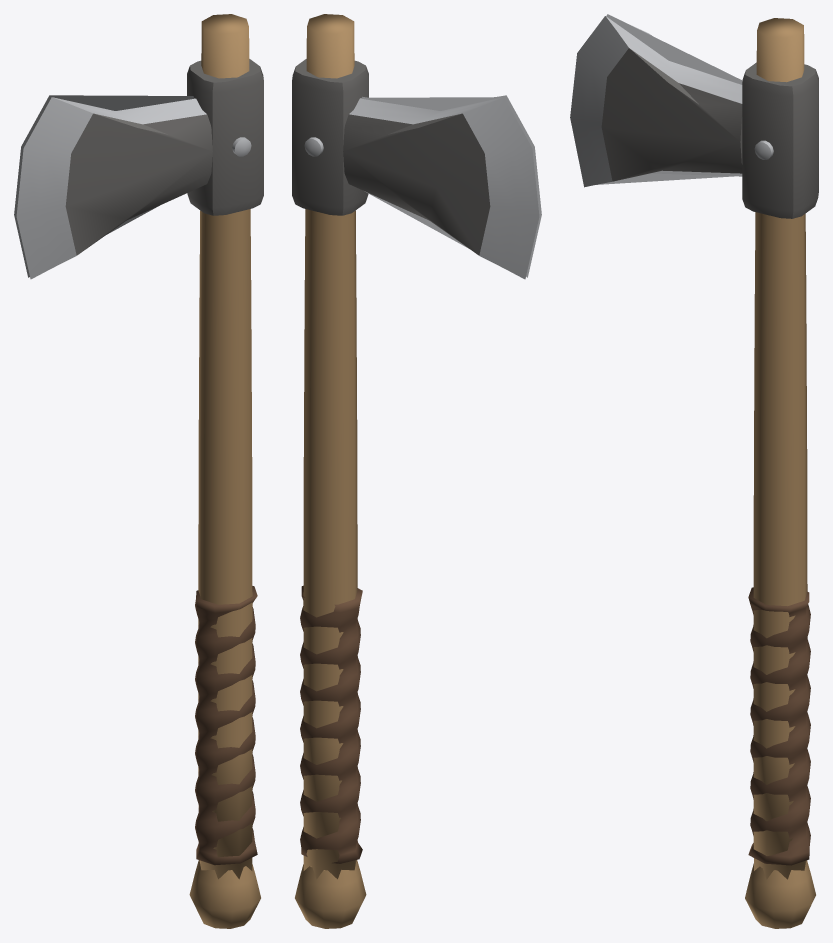
The model's file is handaxe.glb.
3 renders of one model, left to right at view 1: azimuth 30°, elevation 25°; view 2: azimuth 150°, elevation 25°; view 3: azimuth 330°, elevation 25°, orthographic.
Visible parts, largest first — view 1: handaxe; view 2: handaxe; view 3: handaxe.
Part boxes in pixels (left/top/right/bottom): handaxe: left=14, top=14, right=263, bottom=928; handaxe: left=292, top=14, right=541, bottom=928; handaxe: left=570, top=14, right=818, bottom=928.
Bounding box in the file's own units: 0.3416 × 1.22 × 0.0965.
